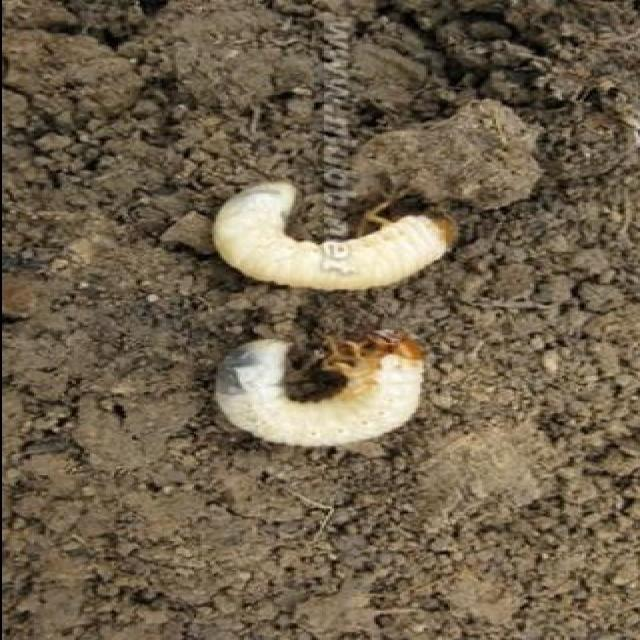grub: (223, 185, 451, 297), (214, 334, 436, 447)
